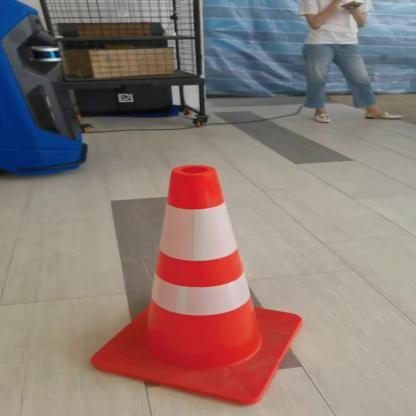cone: (80, 155, 310, 408)
